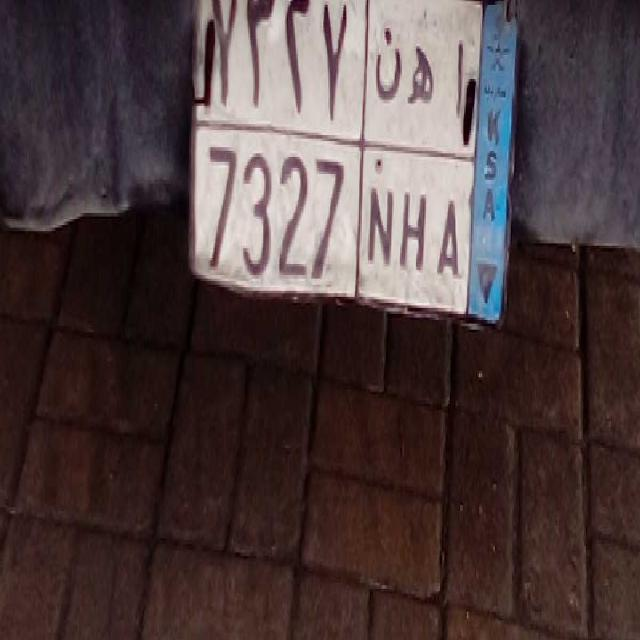license_plate: (194, 116, 465, 324)
